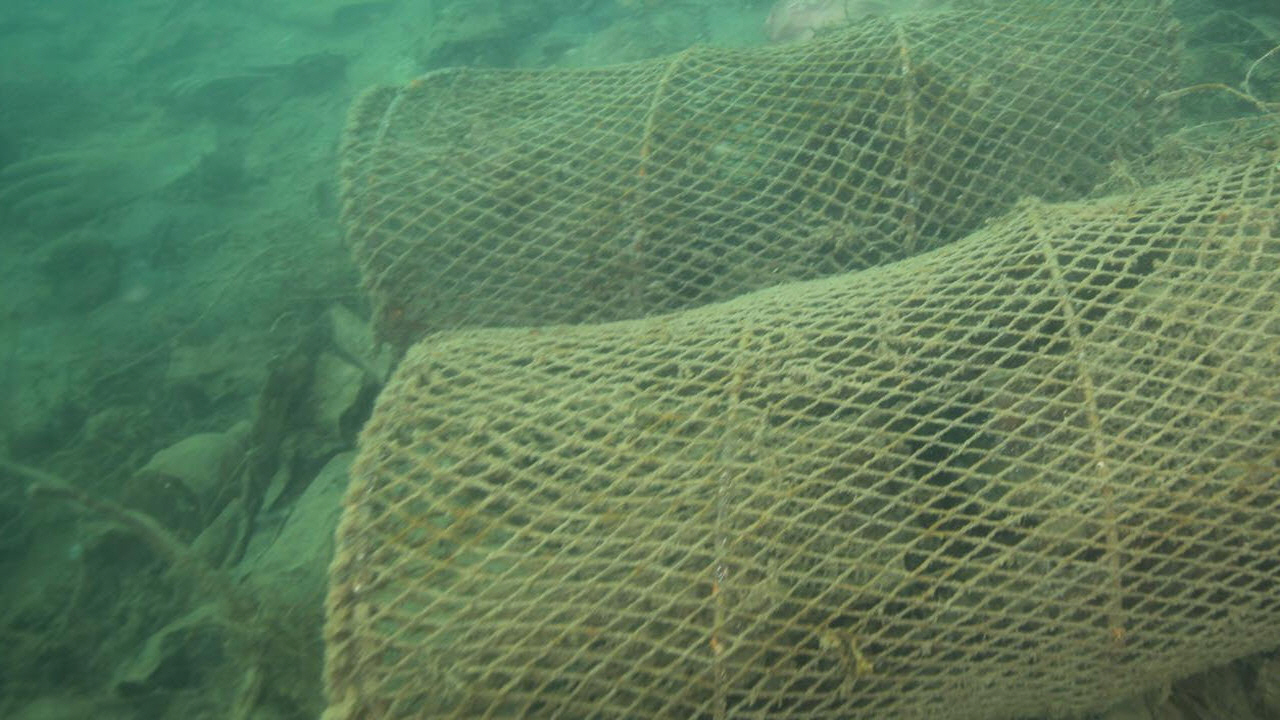spring fish trap: (317, 147, 1280, 720), (335, 0, 1185, 348)
